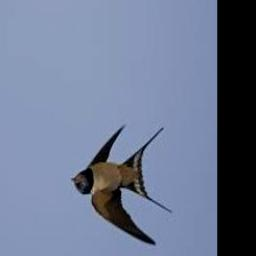Swallow: (71, 126, 173, 247)
